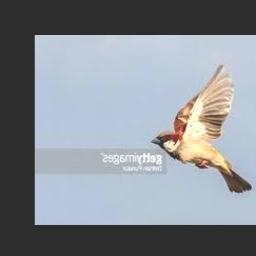Sparrow: (152, 65, 253, 193)
